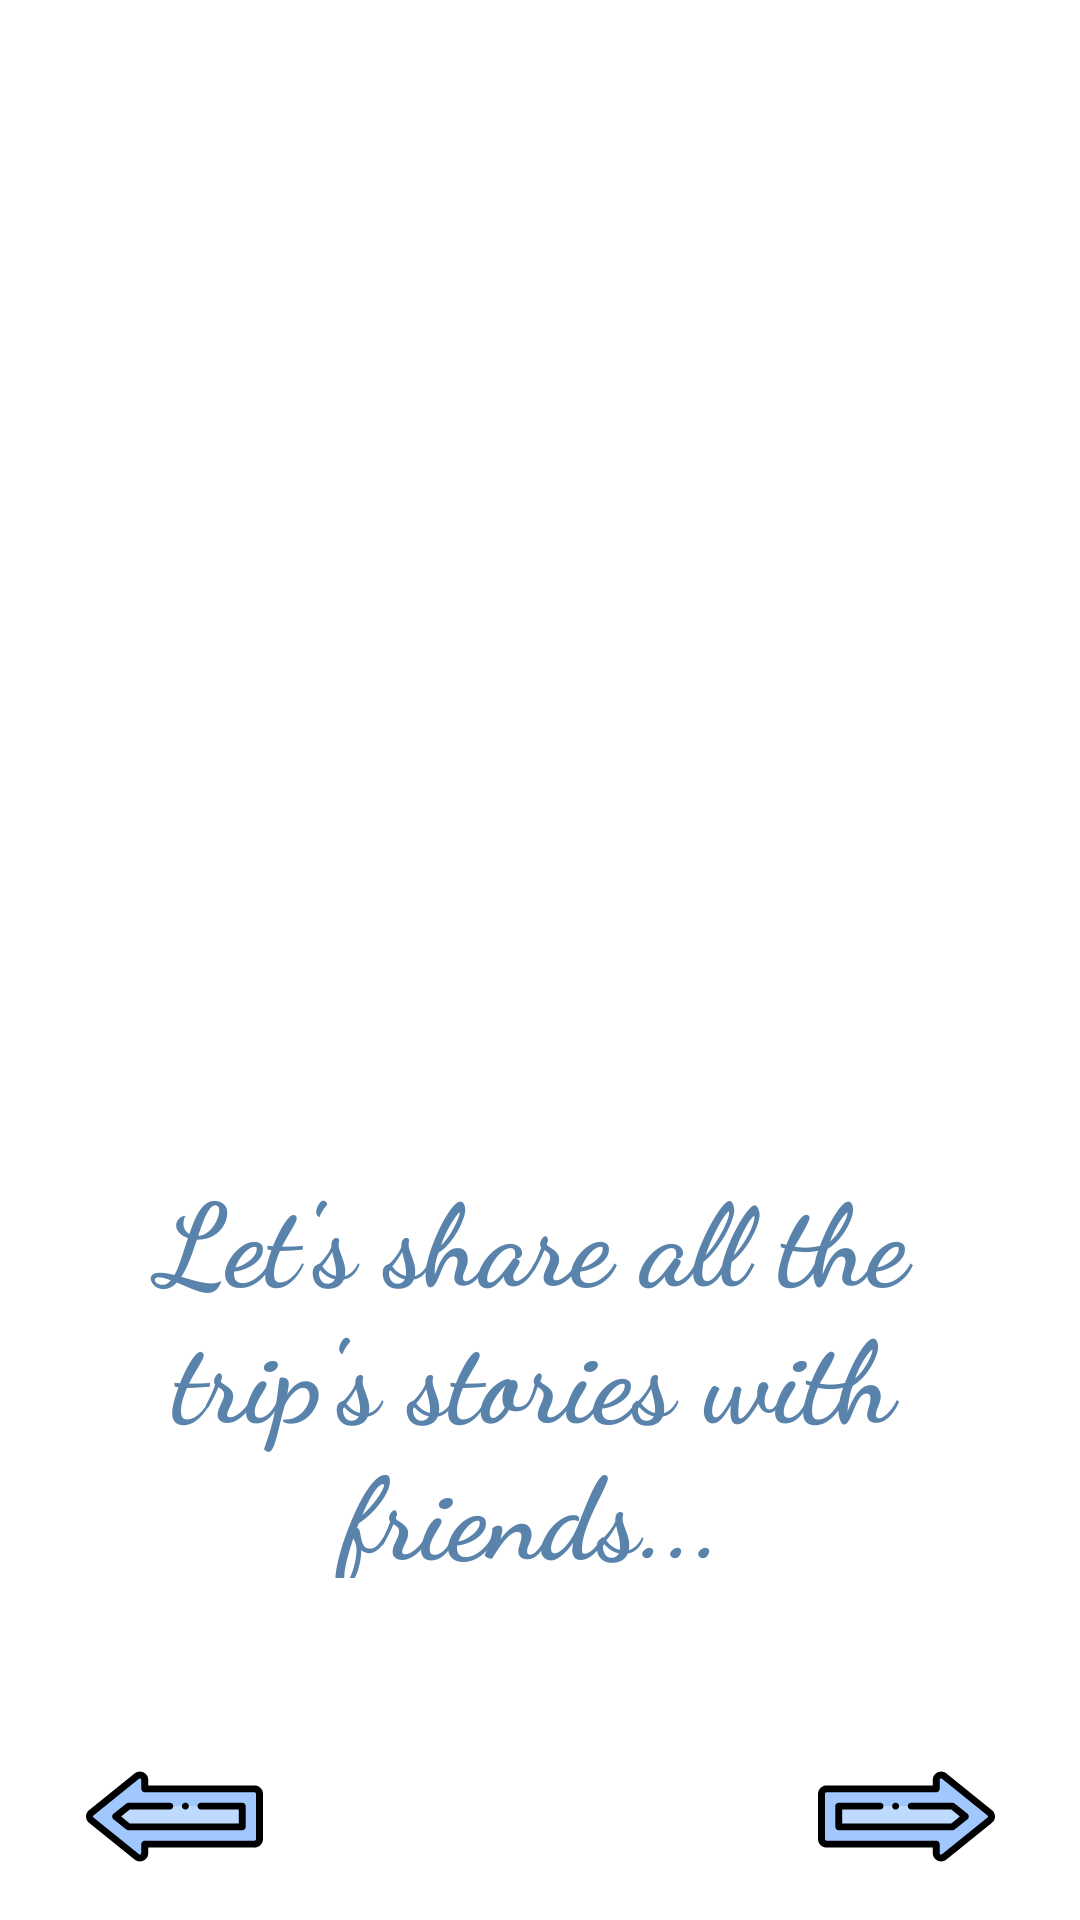

Named icons in this screenshot (1080w x 1920h) and their bounding boxes, (x1, y1, x2, y2):
leftzees: (86, 1771, 263, 1862)
rightzees: (818, 1771, 995, 1862)
